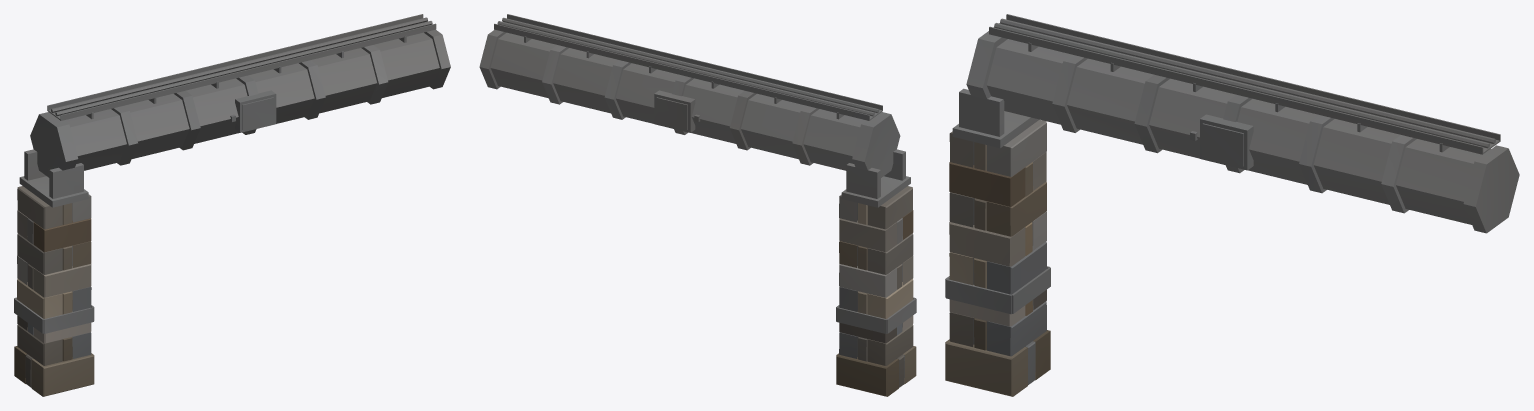
File: TubeSeg_LOD1.glb
3 renders of one model, left to right at view 1: azimuth 30°, elevation 25°; view 2: azimuth 150°, elevation 25°; view 3: azimuth 330°, elevation 25°, orthographic. The views are drawn at different scales.
Parts seen in each view (by area): view 1: TubeSeg_Metal_LOD1, TubeSeg_Masonry_LOD1; view 2: TubeSeg_Metal_LOD1, TubeSeg_Masonry_LOD1; view 3: TubeSeg_Metal_LOD1, TubeSeg_Masonry_LOD1.
Boxes of the visible parts, x1=… form: TubeSeg_Metal_LOD1: x1=14, y1=14, x2=450, y2=333; TubeSeg_Masonry_LOD1: x1=14, y1=186, x2=94, y2=396; TubeSeg_Metal_LOD1: x1=479, y1=14, x2=916, y2=333; TubeSeg_Masonry_LOD1: x1=836, y1=186, x2=916, y2=396; TubeSeg_Metal_LOD1: x1=945, y1=14, x2=1519, y2=314; TubeSeg_Masonry_LOD1: x1=945, y1=119, x2=1050, y2=396.
Bounding box in the file's own units: 7.85 × 4.98 × 1.2.
